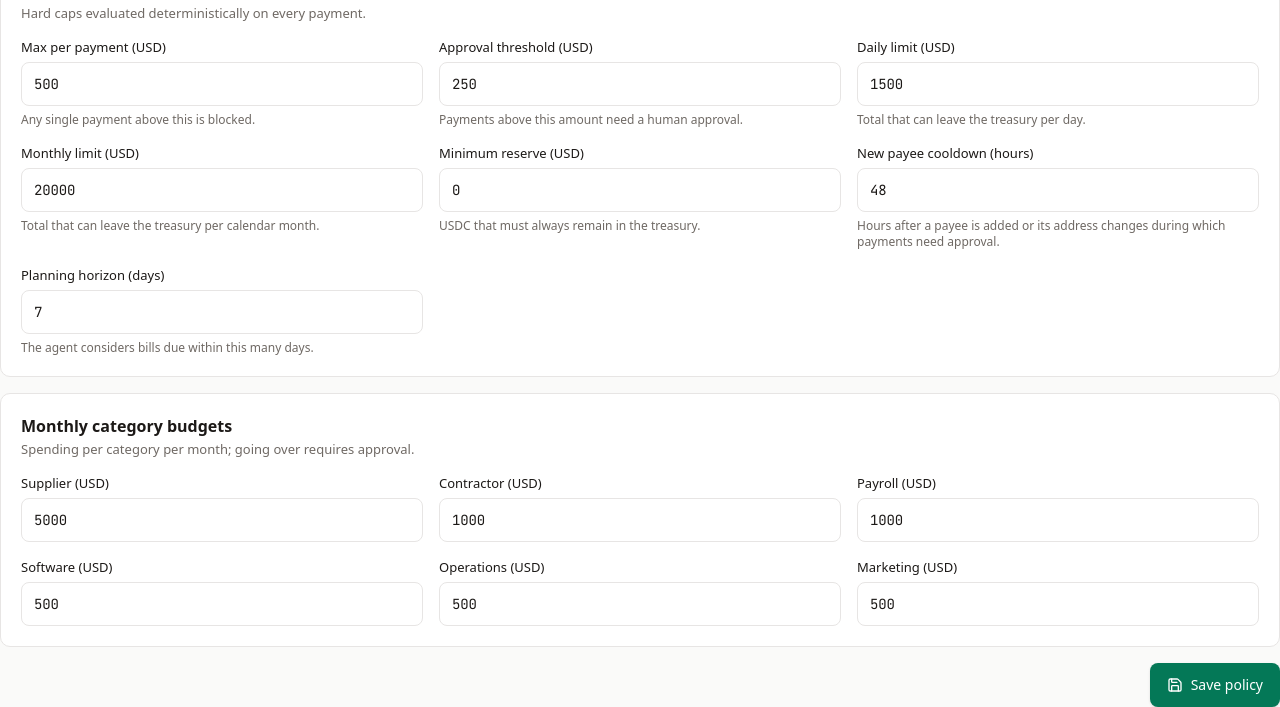
policies › on a failed save, shows a toast and focuses the first field with an error
(page scrolled)
Click the button with test id "policy-save". click: [1215, 685]
box: 1150,663 -> 1279,706
(page scrolled)
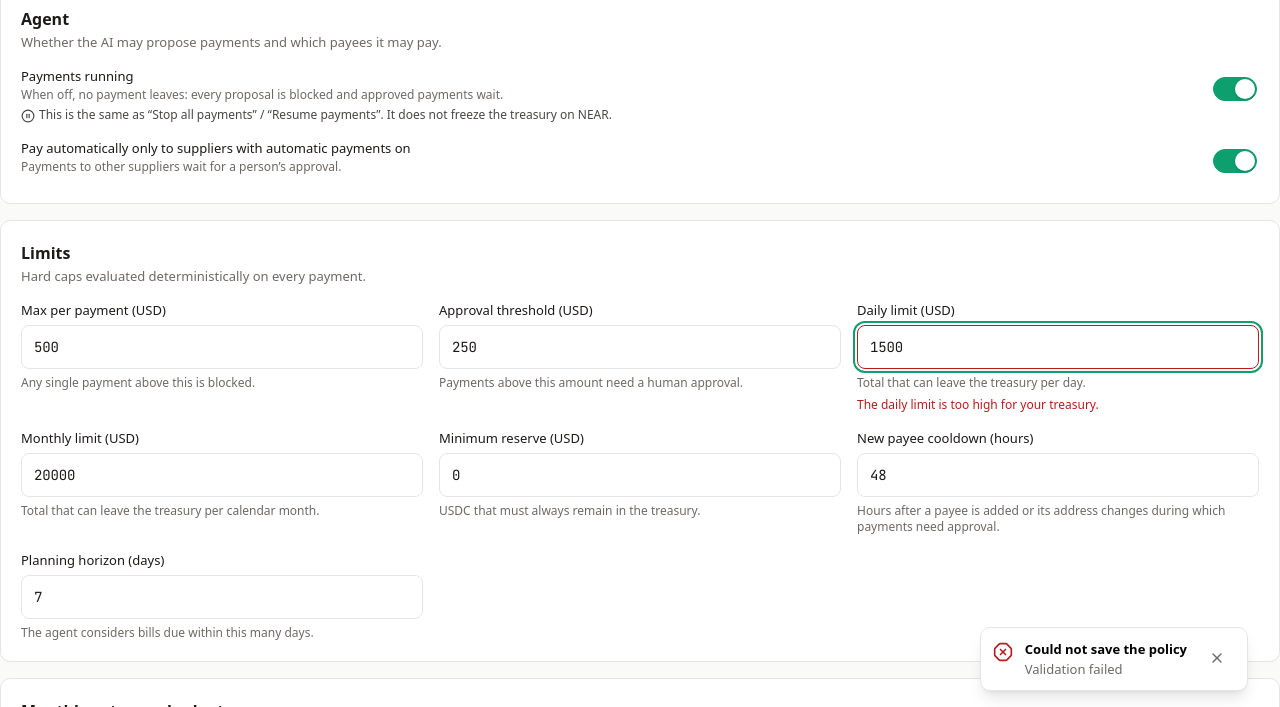
Now the text "Could not save the policy" is shown, box 1025,640 -> 1187,658
